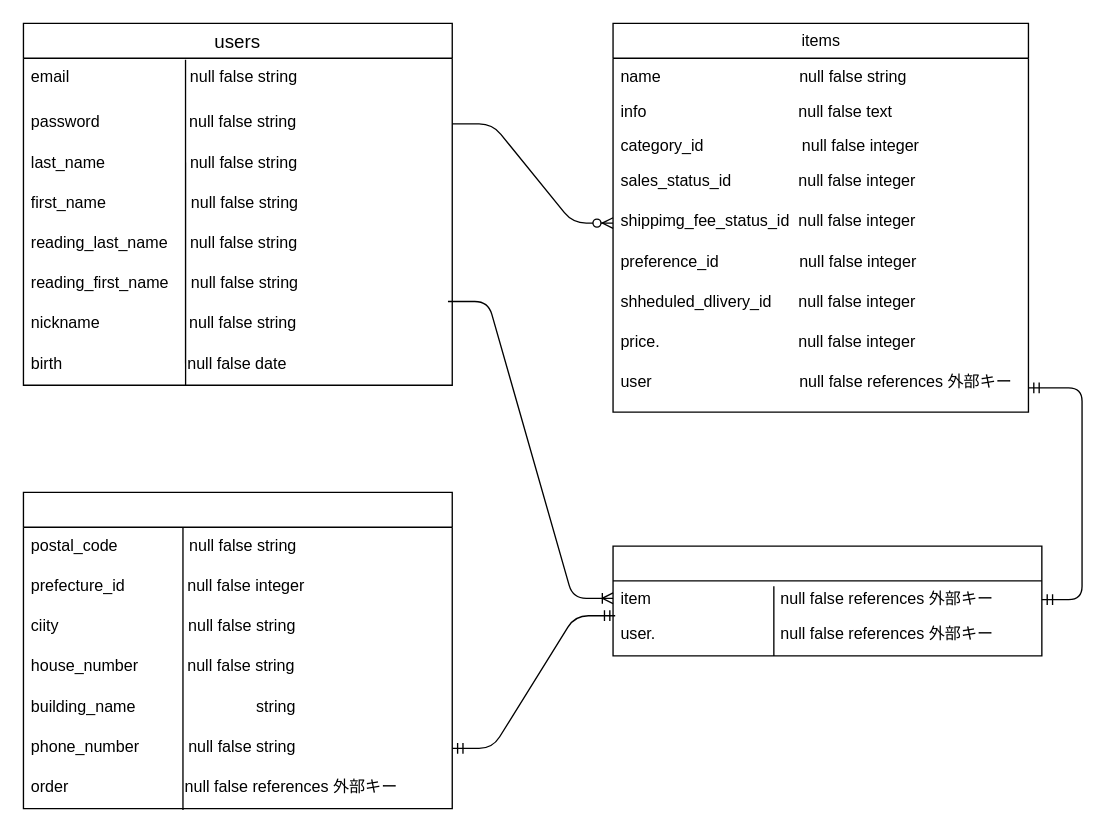
Image size: 1118x836. Some labels were removed from this diagram. The shapes that lost their labels are listed below. From the top down, each one's box as (x1, y1, x2, y2) in pixels, then its label:
(612, 545, 1042, 656): orders
(22, 491, 452, 809): addresses
